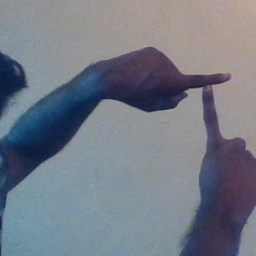T: (166, 57, 252, 166)
